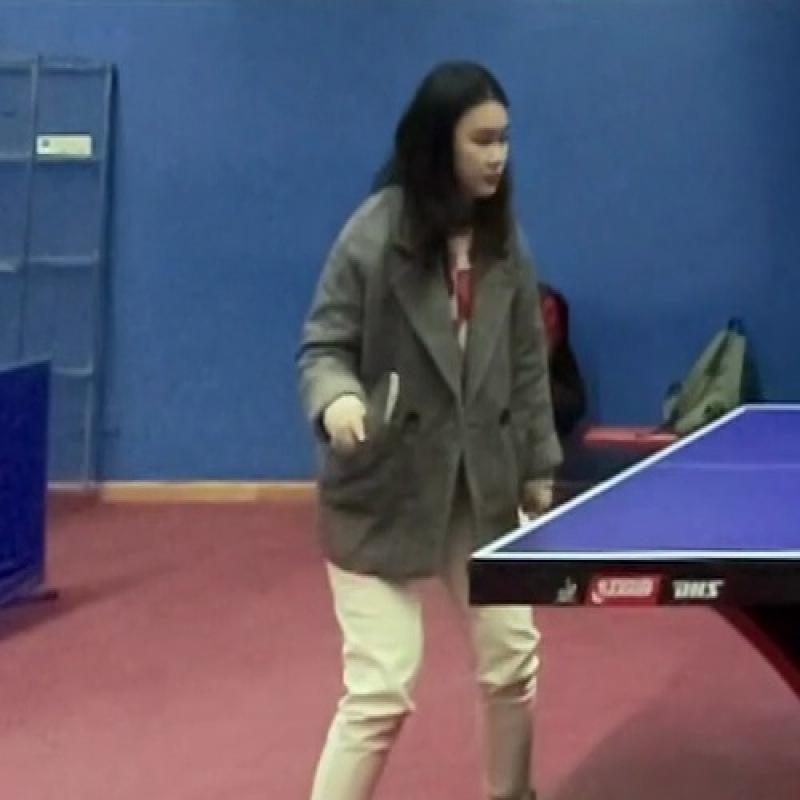bats: (328, 343, 428, 473)
